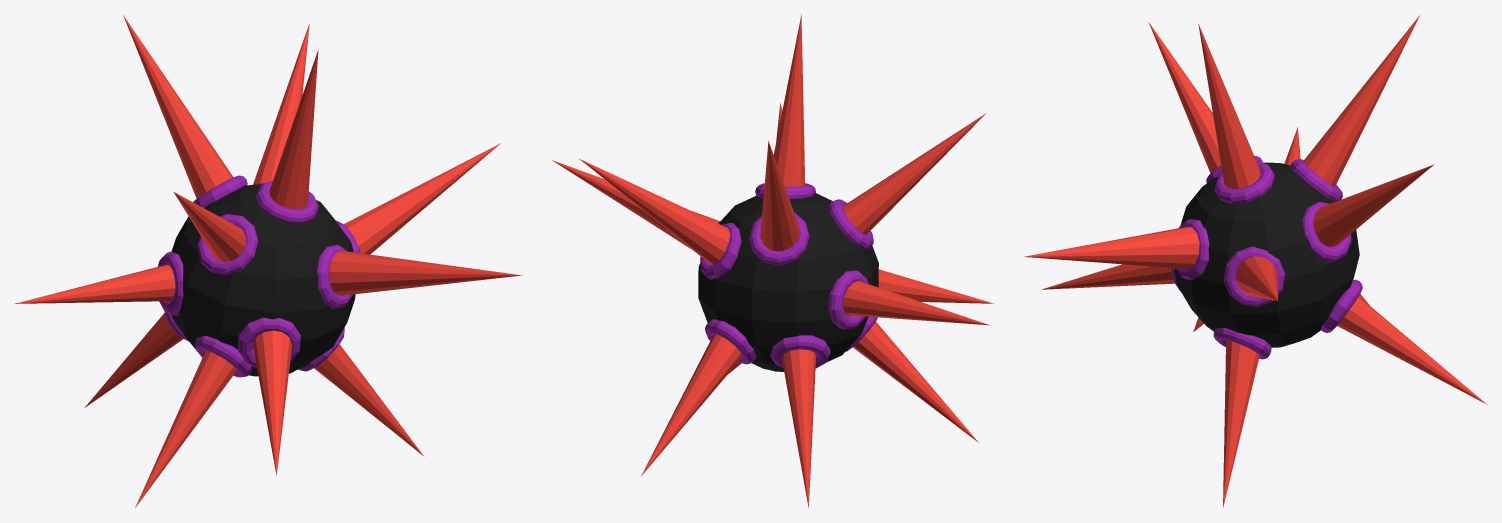
Rendered from mina_armada.fbx.
The picture shows the model from 3 angles, left to right: view 1: azimuth 30°, elevation 25°; view 2: azimuth 150°, elevation 25°; view 3: azimuth 270°, elevation 25°; orthographic projection. The views are drawn at different scales.
Visible parts, largest first — view 1: group_231835170; view 2: group_231835170; view 3: group_231835170.
Boxes of the visible parts, box(x1,y1,x2,y2) form: group_231835170: box(14, 15, 522, 507); group_231835170: box(552, 14, 993, 507); group_231835170: box(1023, 15, 1487, 507).
Size of the model in its own units: 33.94 by 30.36 by 29.72.
